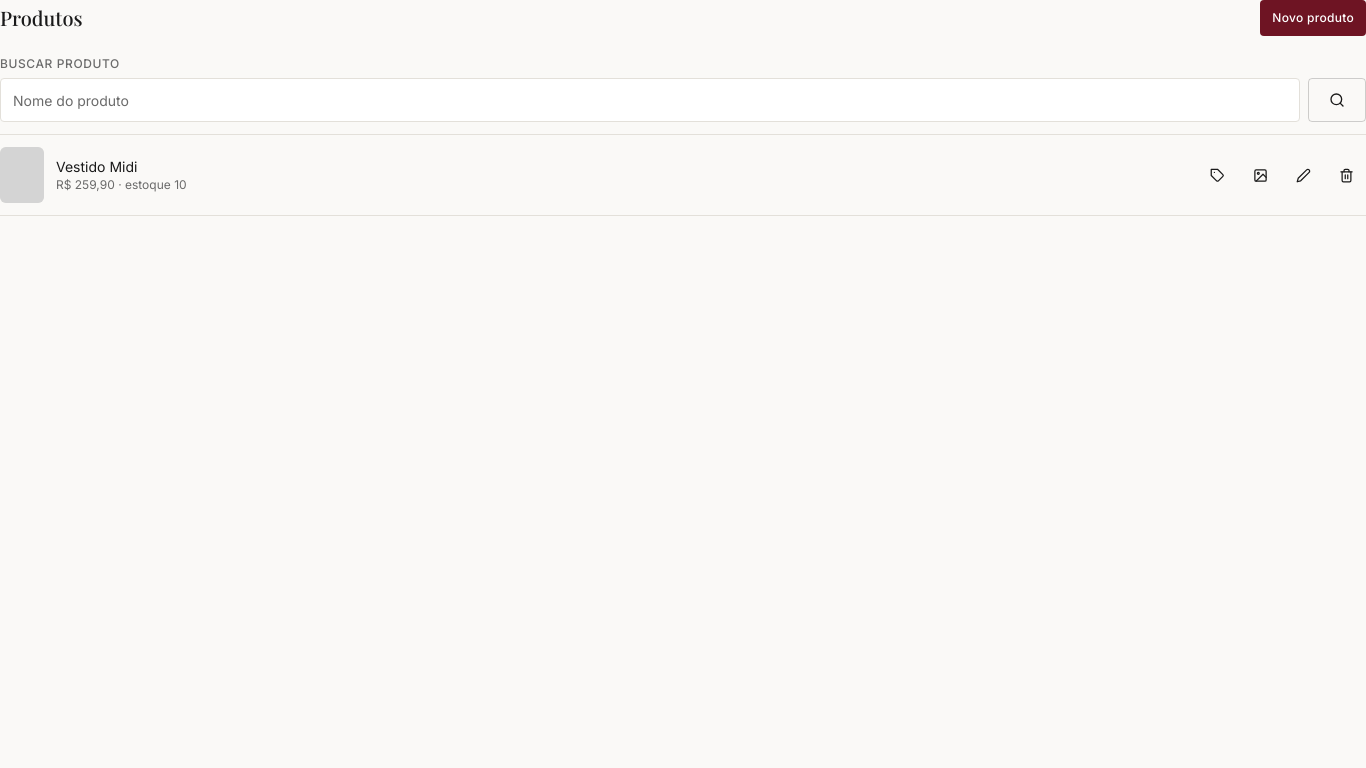
Test case: AdminProdutos › exclui um produto após confirmar no diálogo
Check: the text "Vestido Midi" is shown, box [56, 158, 137, 175]
Step 1. Click the button named "Excluir Vestido Midi" → [1346, 175], box [1327, 157, 1365, 193]
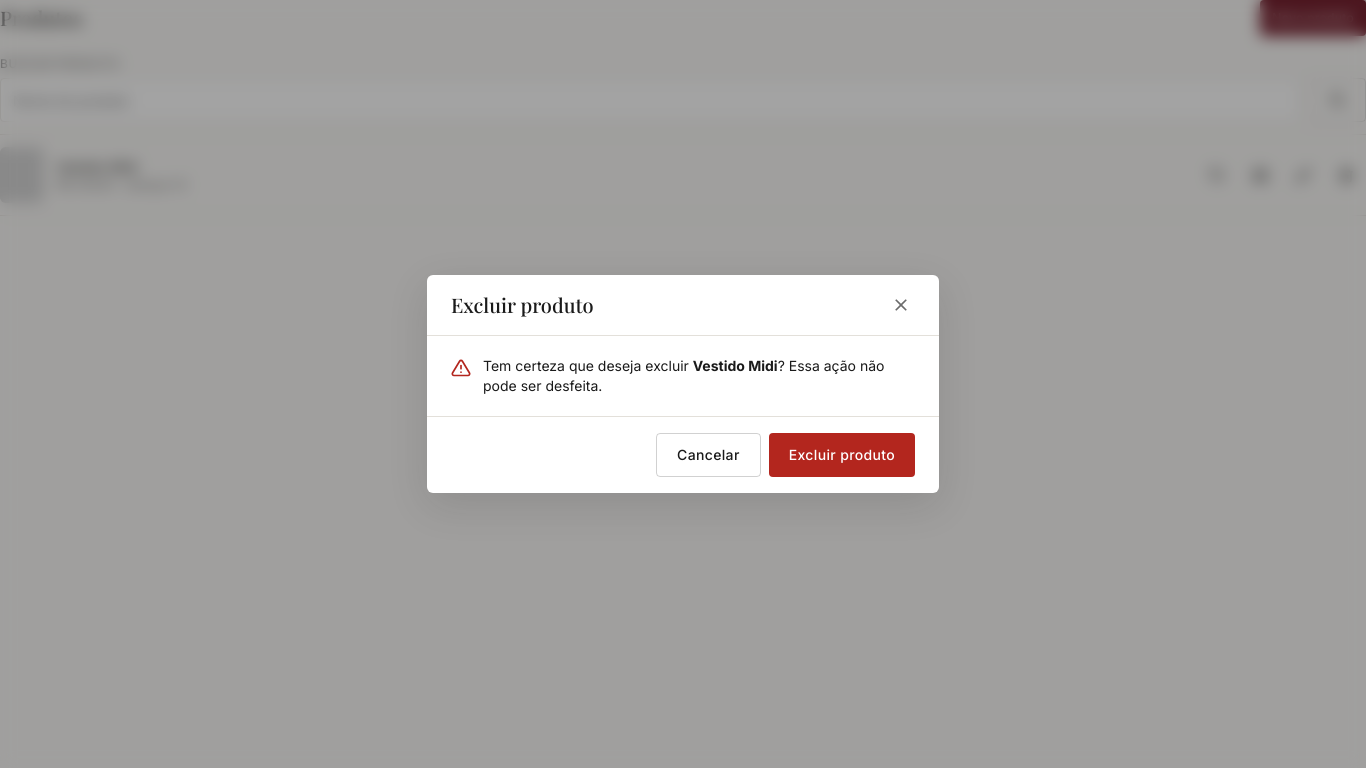
Step 2. Click the button "Excluir produto" → [842, 455], box [769, 433, 915, 477]
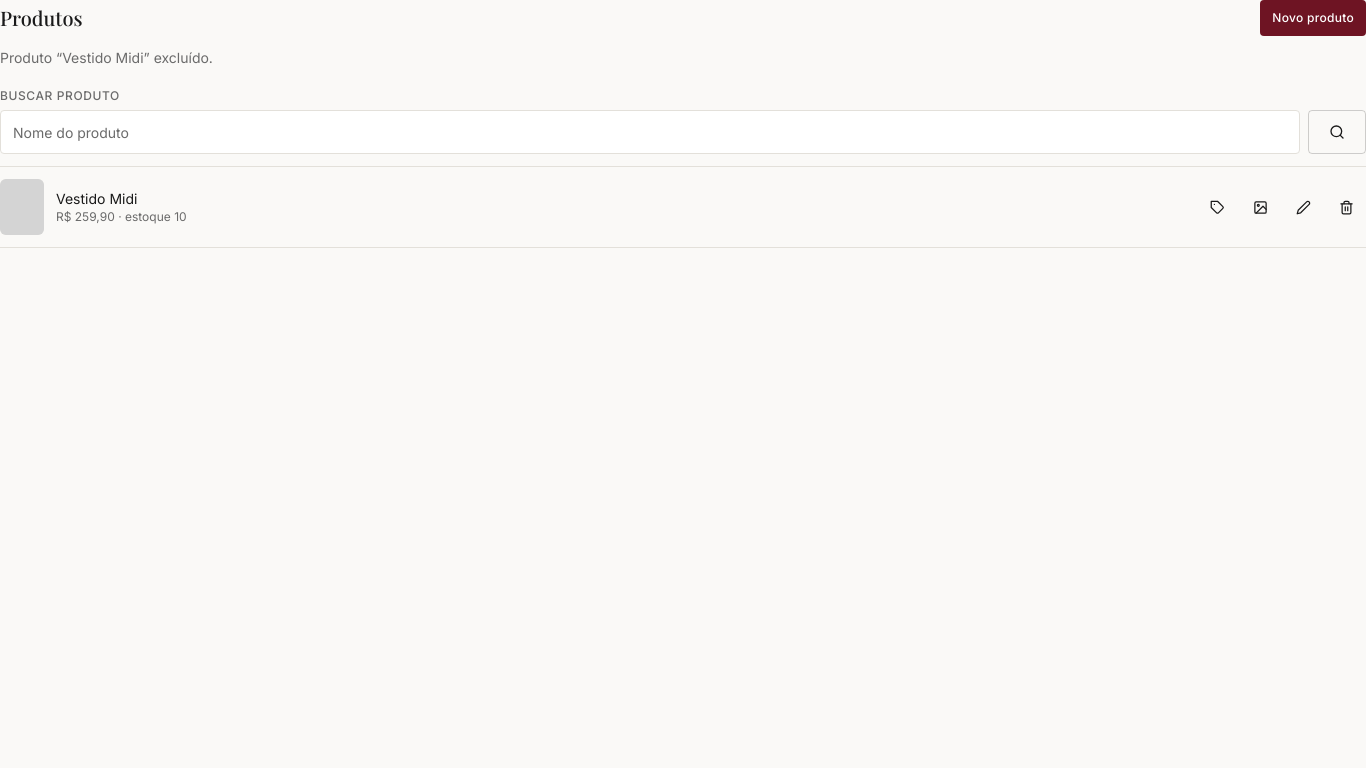
Check: the text "Produto “Vestido Midi” excluído." is shown, box [0, 49, 213, 66]
